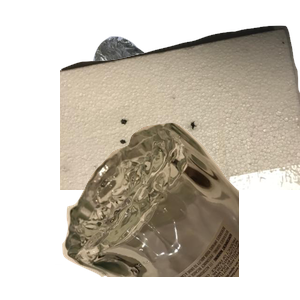glass: (60, 120, 300, 300)
metal: (68, 34, 300, 214)
plastic: (55, 120, 284, 300)
trash: (60, 23, 300, 203)
